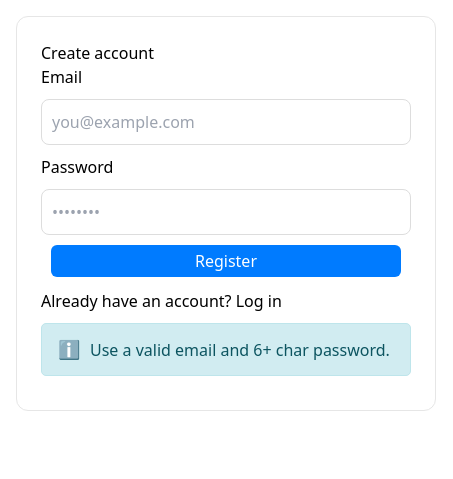
Test: Register Component › client validation: shows errors for invalid inputs and focuses first invalid
Click the button "Register" at [226, 261], box x1=51 y1=245 x2=401 y2=277
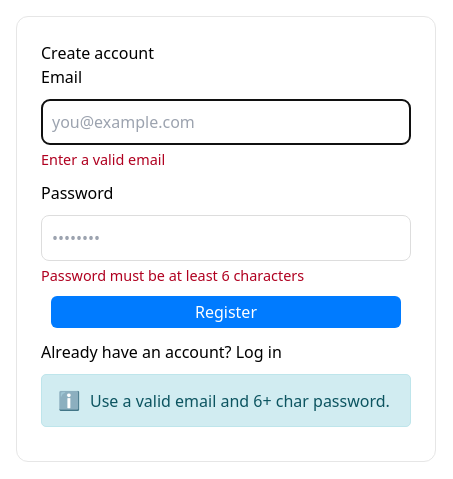
Check: the text "Enter a valid email" is shown, box x1=41 y1=150 x2=165 y2=169
